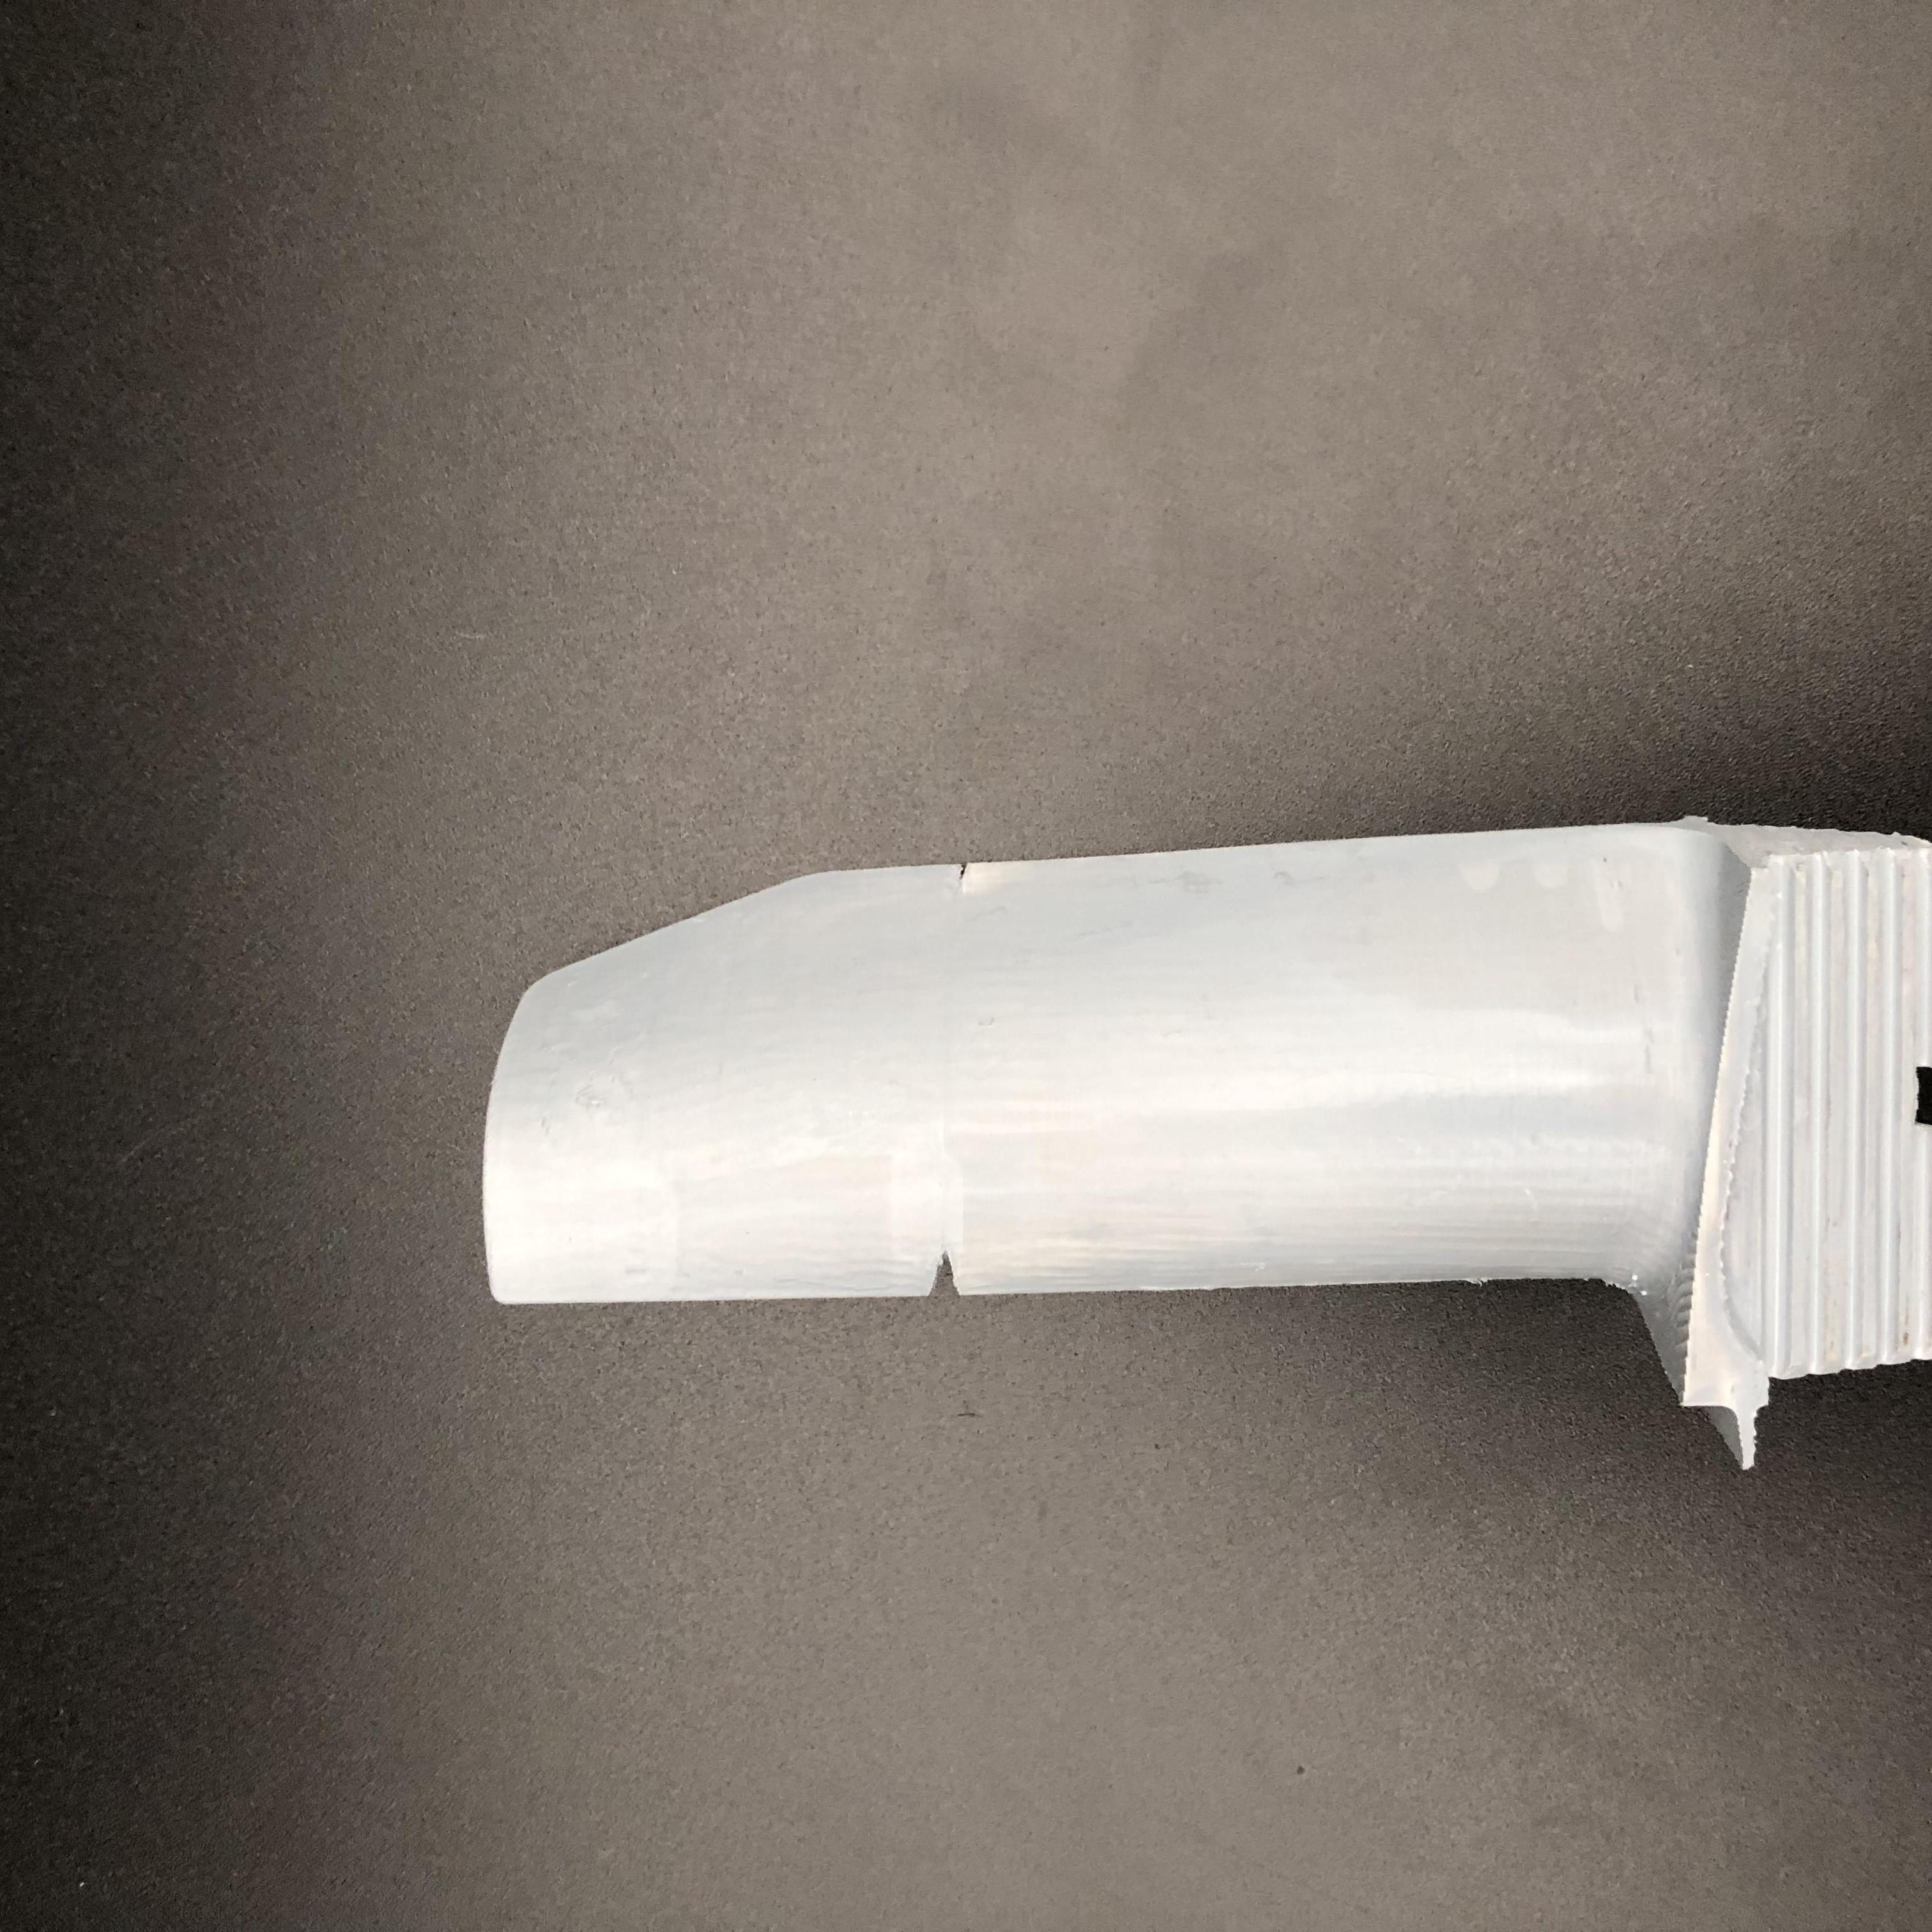groove: (916, 1253, 984, 1297), (950, 856, 996, 888)
